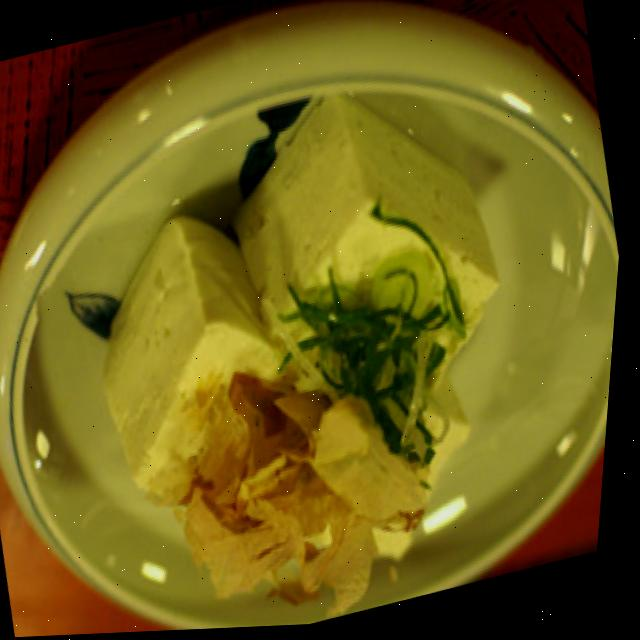豆腐料理: (48, 57, 579, 637)
